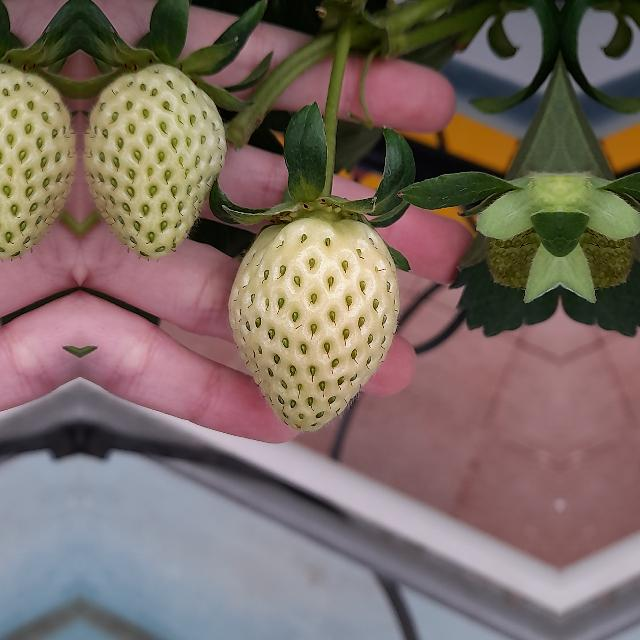Health_25: (228, 218, 400, 430), (80, 60, 228, 264), (0, 60, 79, 264)
